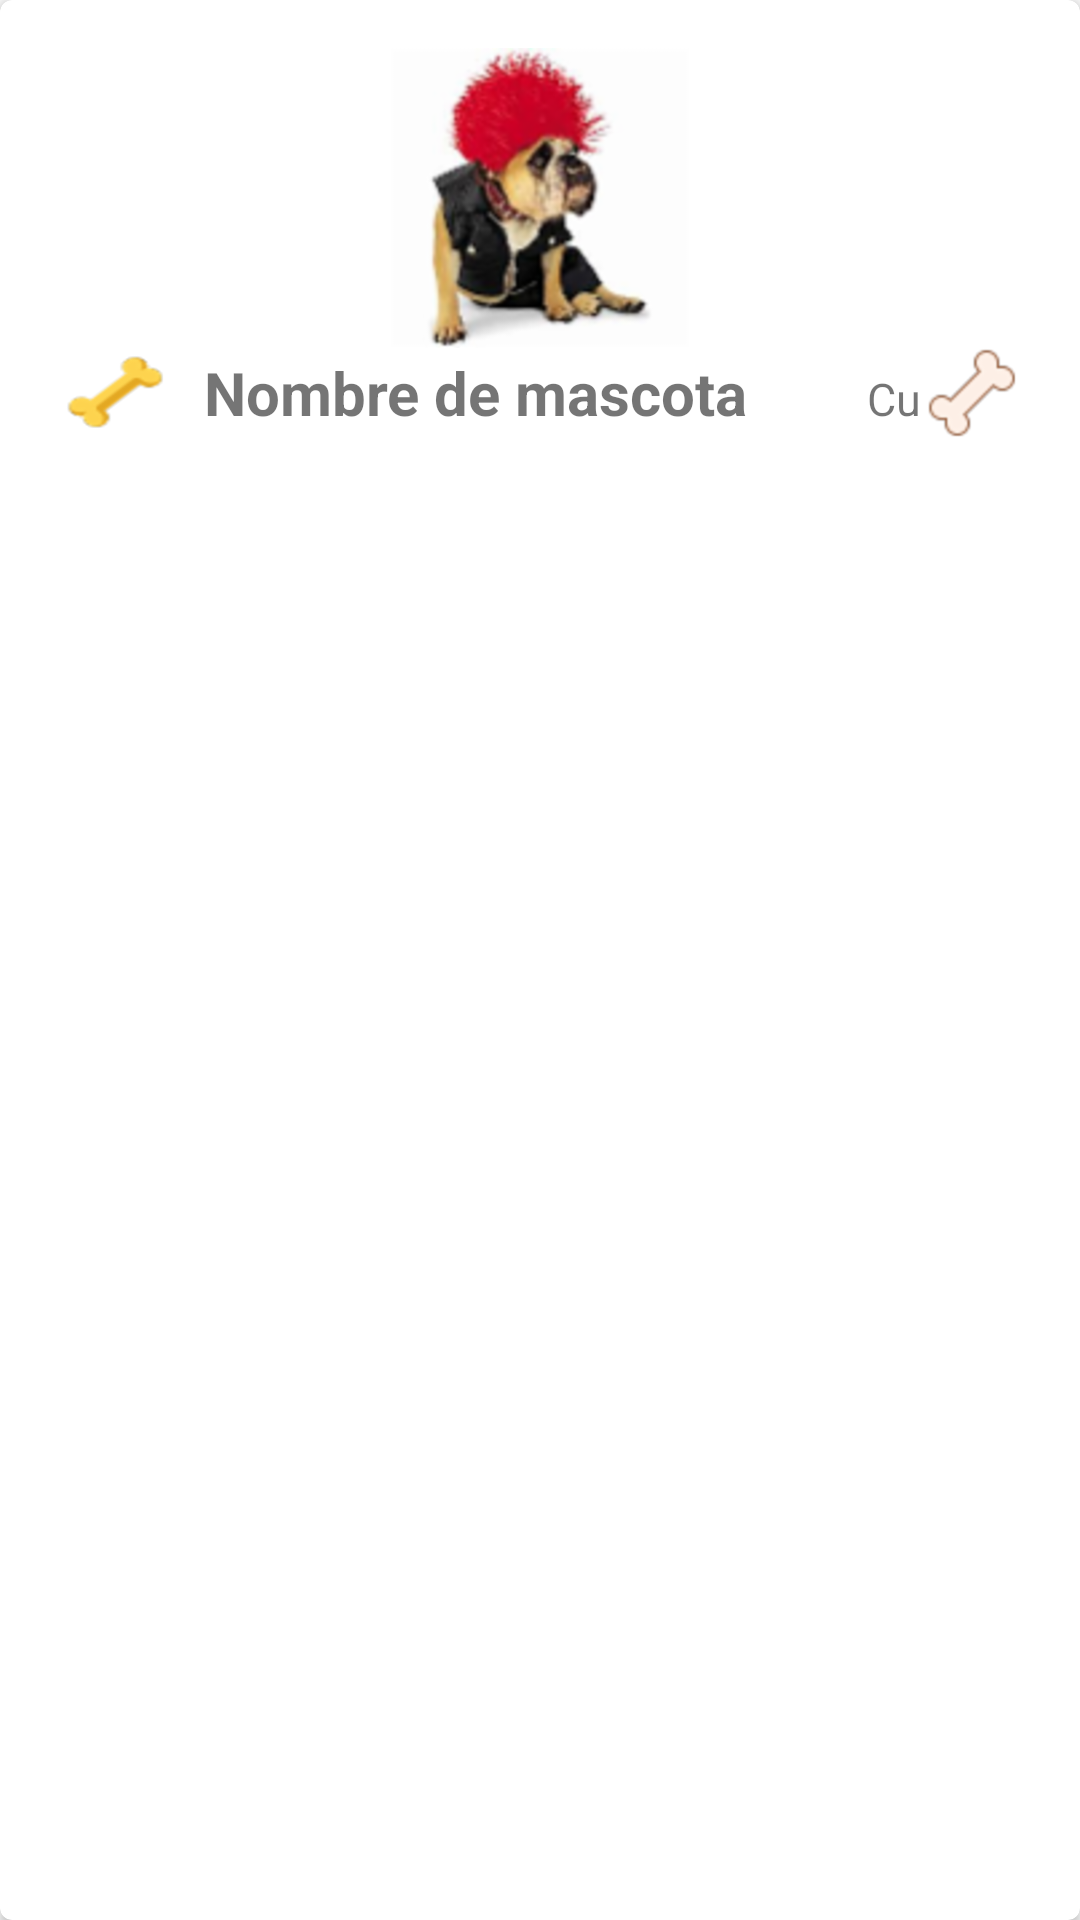

Screen size 1080 x 1920. Icon name, then its box in pixels as BBox(x1, y1, x2, y2):
hueso: BBox(928, 349, 1016, 437), BBox(68, 356, 163, 428)
